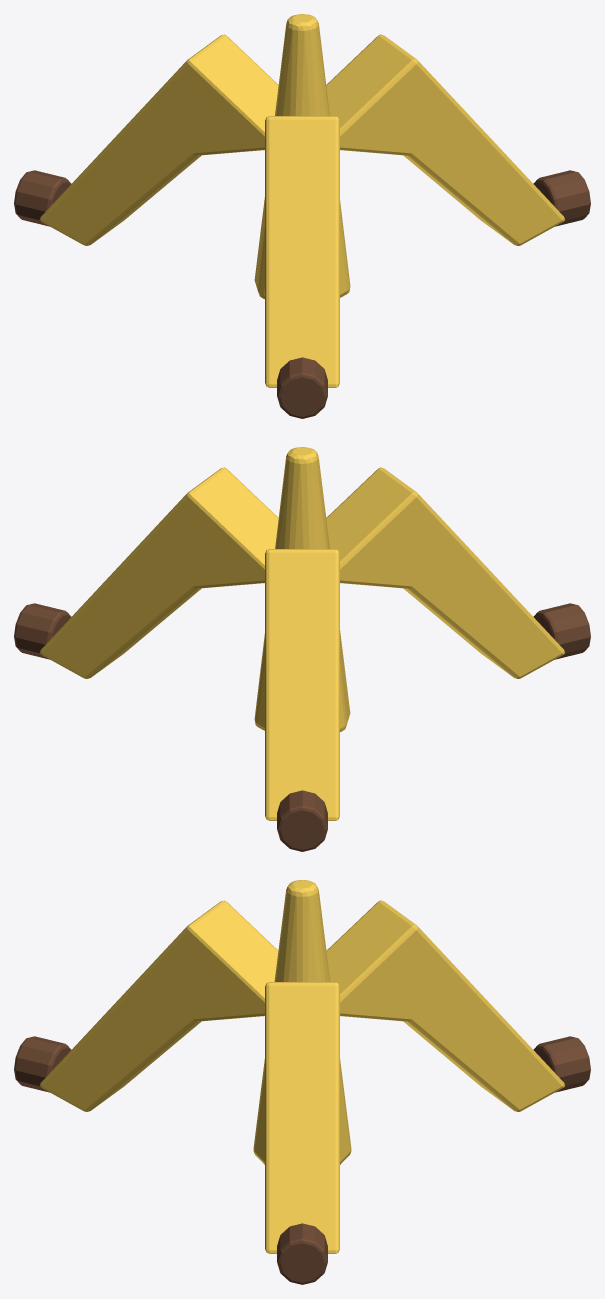
Rendered from P040_banana_peel.glb.
3 renders of one model, top to bottom at view 1: azimuth 30°, elevation 25°; view 2: azimuth 150°, elevation 25°; view 3: azimuth 270°, elevation 25°, orthographic.
Visible parts, largest first — view 1: P040_peel_002, P040_peel_004, P040_peel_006, P040_center_001, P040_tip_007, P040_tip_003, P040_tip_005; view 2: P040_peel_002, P040_peel_006, P040_peel_004, P040_center_001, P040_tip_005, P040_tip_003, P040_tip_007; view 3: P040_peel_004, P040_peel_006, P040_peel_002, P040_center_001, P040_tip_003, P040_tip_005, P040_tip_007.
Boxes of the visible parts, x1,y1,x2,y2 form: P040_peel_002: (326, 34, 564, 245); P040_peel_004: (40, 34, 278, 245); P040_peel_006: (265, 116, 339, 387); P040_center_001: (254, 14, 350, 298); P040_tip_007: (277, 357, 327, 418); P040_tip_003: (533, 170, 590, 226); P040_tip_005: (14, 170, 71, 226); P040_peel_002: (40, 467, 278, 678); P040_peel_006: (326, 467, 564, 678); P040_peel_004: (265, 549, 339, 820); P040_center_001: (254, 447, 350, 731); P040_tip_005: (277, 790, 327, 851); P040_tip_003: (14, 603, 71, 659); P040_tip_007: (533, 603, 590, 659); P040_peel_004: (326, 900, 564, 1111); P040_peel_006: (40, 900, 278, 1111); P040_peel_002: (265, 982, 339, 1253); P040_center_001: (253, 880, 351, 1164); P040_tip_003: (277, 1223, 327, 1284); P040_tip_005: (533, 1036, 590, 1092); P040_tip_007: (14, 1036, 71, 1092).
Bounding box in the file's own units: 0.2347 × 0.14 × 0.2704.
